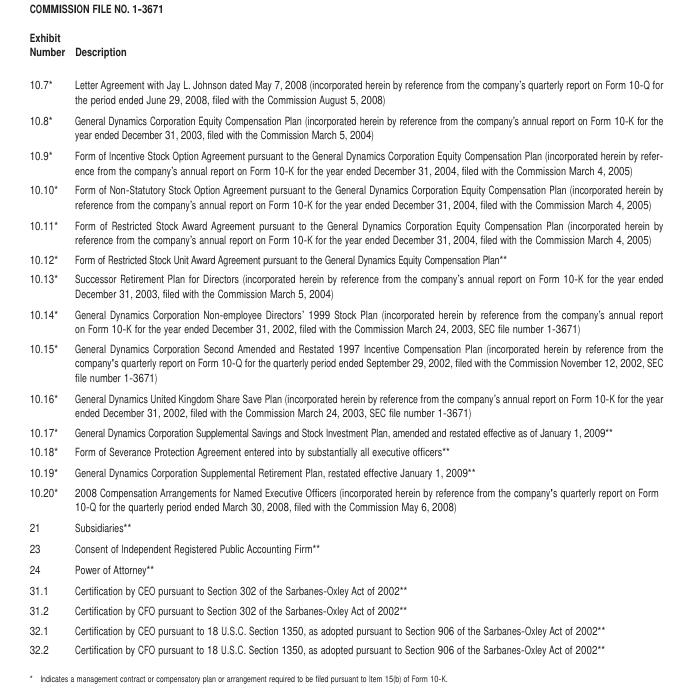table: (28, 28, 662, 656)
table column: (69, 28, 662, 656), (28, 28, 69, 656)
table column header: (28, 28, 662, 67)
table row: (28, 337, 662, 386), (28, 67, 662, 108), (28, 28, 662, 67), (28, 108, 662, 144), (28, 178, 662, 213), (28, 213, 662, 248), (28, 302, 662, 337), (28, 386, 662, 421), (28, 481, 662, 516), (28, 144, 662, 178), (28, 268, 662, 302), (28, 516, 662, 537), (28, 537, 662, 558), (28, 558, 662, 579), (28, 248, 662, 268), (28, 421, 662, 441), (28, 441, 662, 461), (28, 461, 662, 481), (28, 579, 662, 599), (28, 599, 662, 619), (28, 619, 662, 639), (28, 639, 662, 656)
